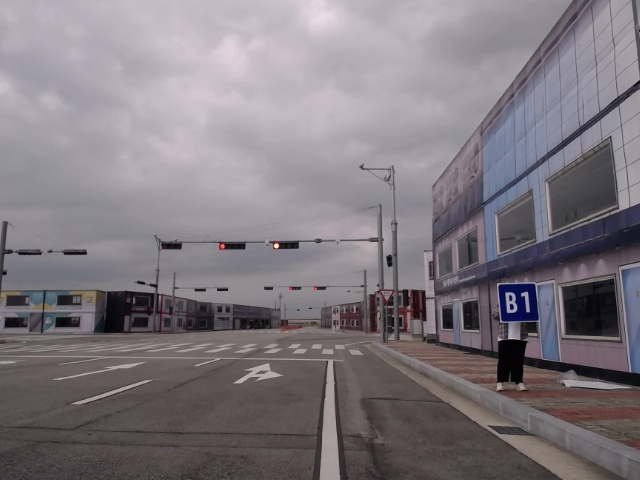delivery_b1: (497, 283, 540, 322)
red_4: (219, 242, 246, 250), (273, 241, 299, 249), (289, 286, 301, 291), (314, 286, 327, 290)
